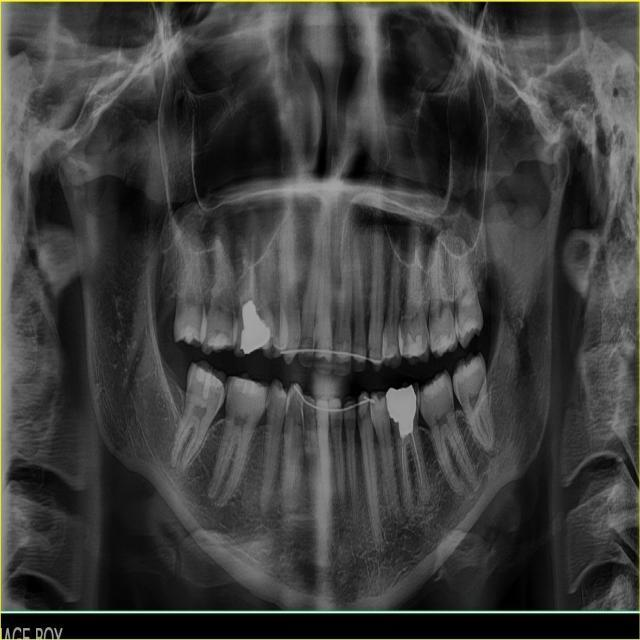74: (410, 430, 425, 486), (403, 447, 410, 491), (401, 438, 404, 490)
NucleOSS Implant: (384, 384, 422, 438), (240, 299, 271, 354)
Straumann Implant: (184, 366, 223, 403), (207, 329, 231, 354), (404, 333, 422, 356)
